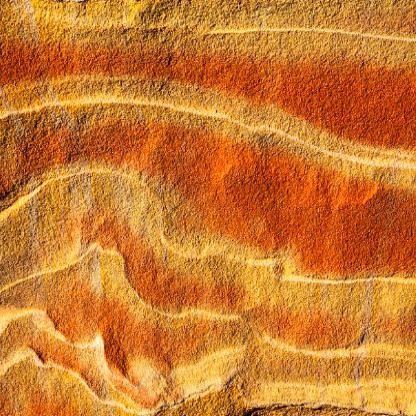Sedimentary_Limestone: (15, 5, 413, 415)
